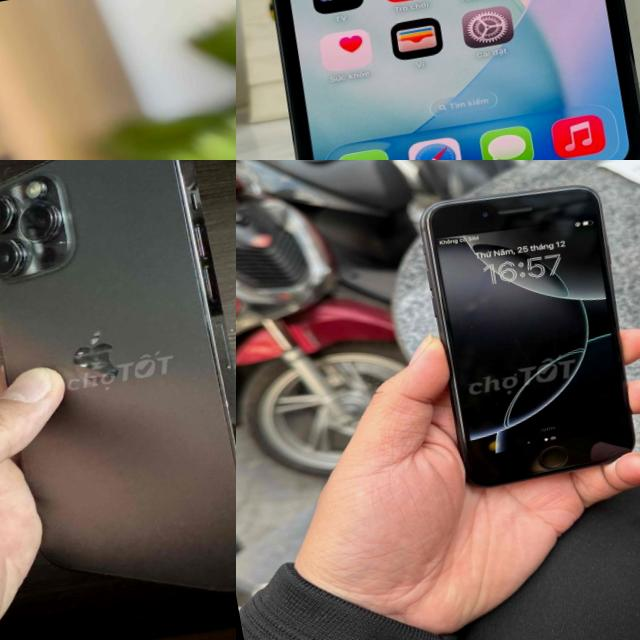gen_11: (236, 0, 640, 160)
gen_12_13: (0, 160, 236, 635)
gen_14: (111, 45, 236, 160)
gen_7_8: (414, 174, 640, 491)
